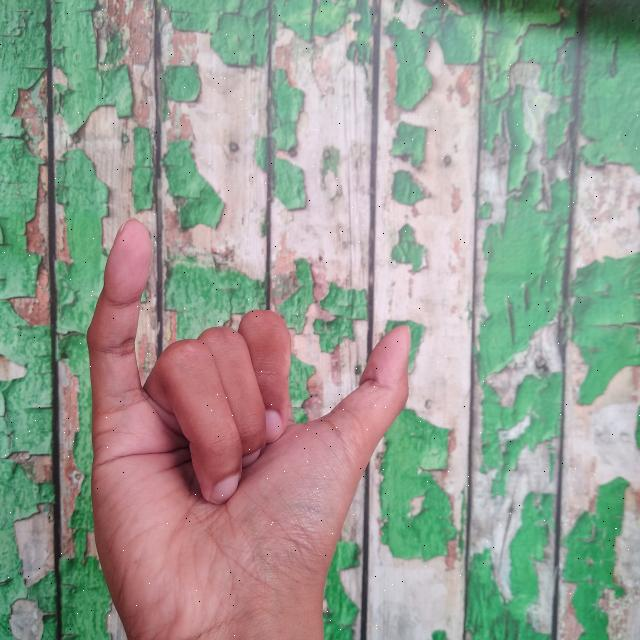Y: (79, 213, 416, 640)
